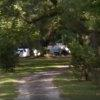Tree: (46, 8, 100, 81)
